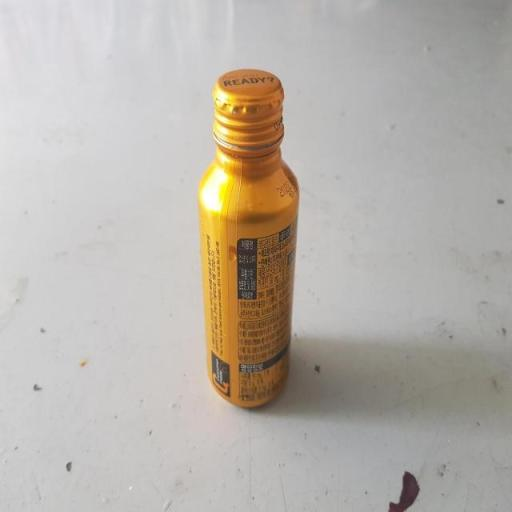metal: (192, 58, 309, 436)
